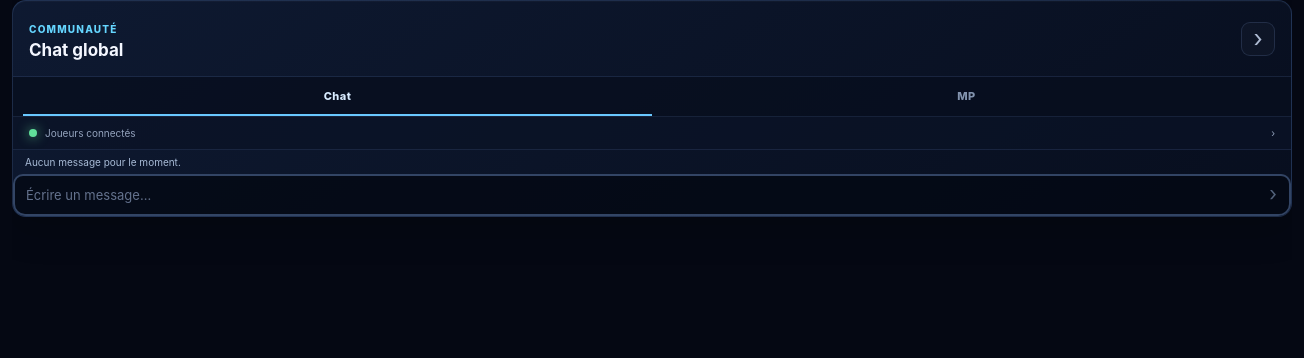
Scenario: opens the explicit active Profile destination after tab activation; existing pair=false
The image size is (1304, 358).
Click the tab "MP": (966, 96) x1=652 y1=77 x2=1281 y2=116
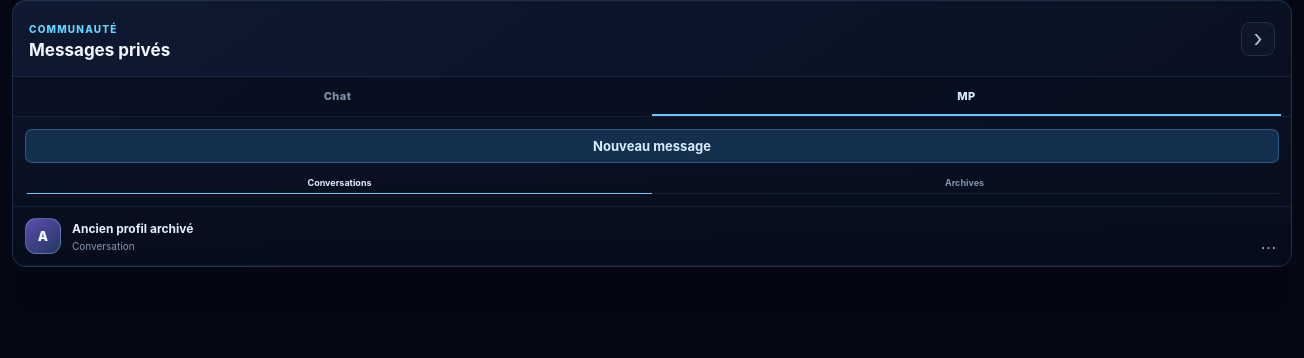
Click the element with class "dm-conversation-row": (652, 236) x1=13 y1=207 x2=1291 y2=266
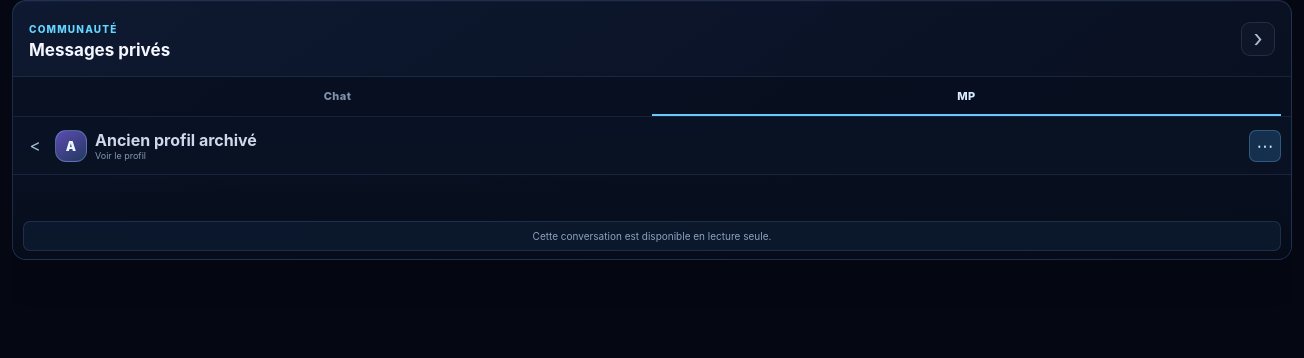
Expected: the text "lecture seule" is shown, x1=533 y1=230 x2=771 y2=242
Click the tab "Chat": (338, 96) x1=23 y1=77 x2=652 y2=116
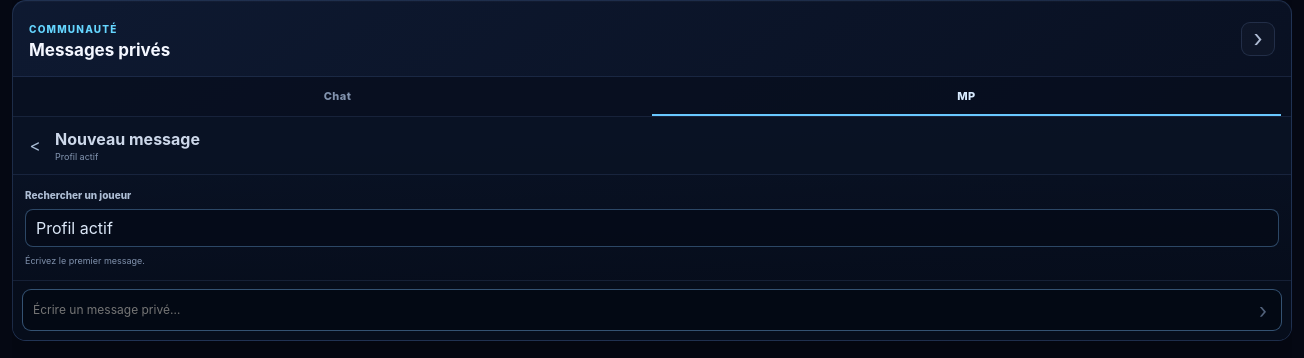
Expected: the header with class "dm-thread-header" shows "Profil actif", x1=55 y1=151 x2=98 y2=162
Expected: the text "lecture seule" is gone
Expected: the search field with id "dm-player-search" is shown, x1=25 y1=209 x2=1279 y2=247
